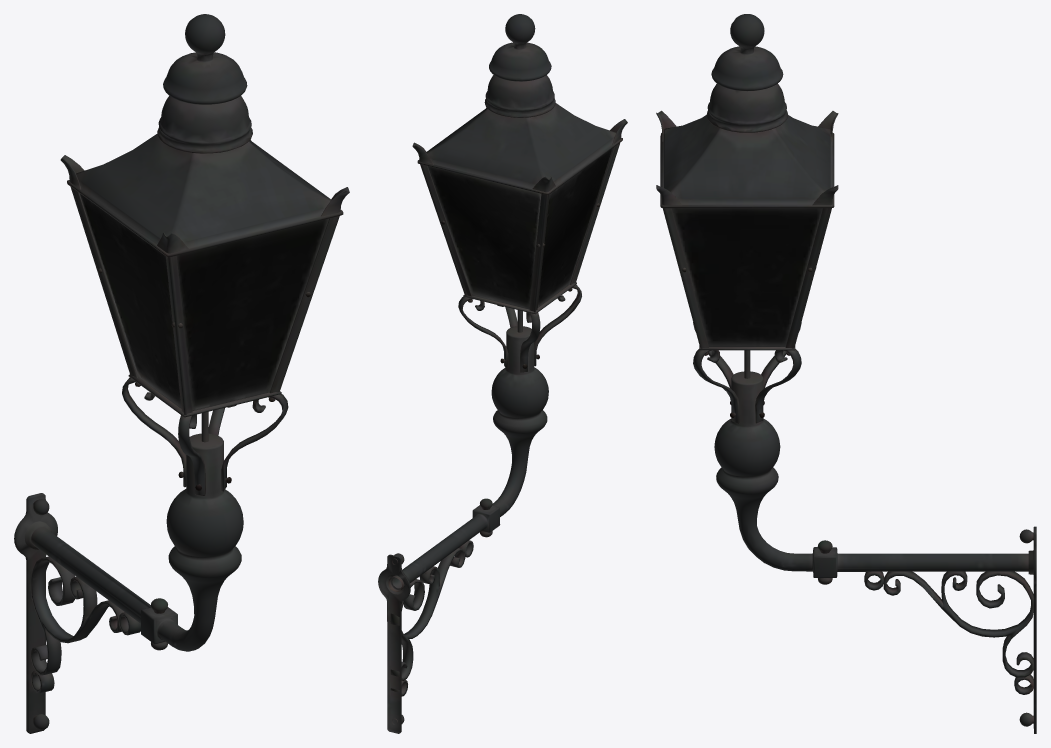
The model's file is wall_lamp.glb.
The picture shows the model from 3 angles, left to right: view 1: azimuth 30°, elevation 25°; view 2: azimuth 150°, elevation 25°; view 3: azimuth 270°, elevation 25°; orthographic projection. The views are drawn at different scales.
Parts seen in each view (by area): view 1: street_lamp_02; view 2: street_lamp_02; view 3: street_lamp_02.
Boxes of the visible parts, x1,y1,x2,y2 form: street_lamp_02: (14,14,349,733); street_lamp_02: (378,14,627,733); street_lamp_02: (656,14,1036,733).
Size of the model in its own units: 0.3864 by 1.67 by 0.8068.
Materials: 2 (2 with a texture image).
